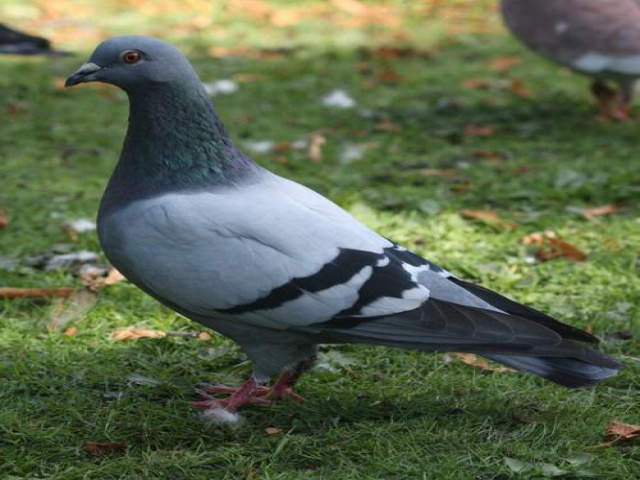Pigeon: (61, 32, 623, 420)
